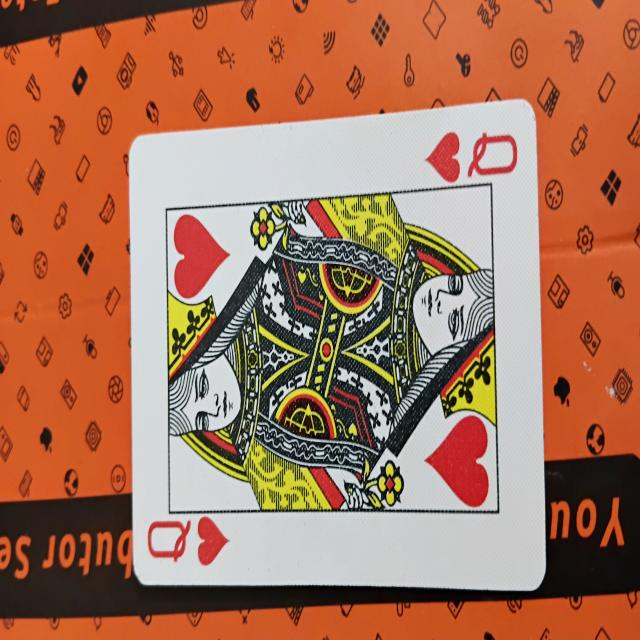QH: (129, 99, 546, 591)
